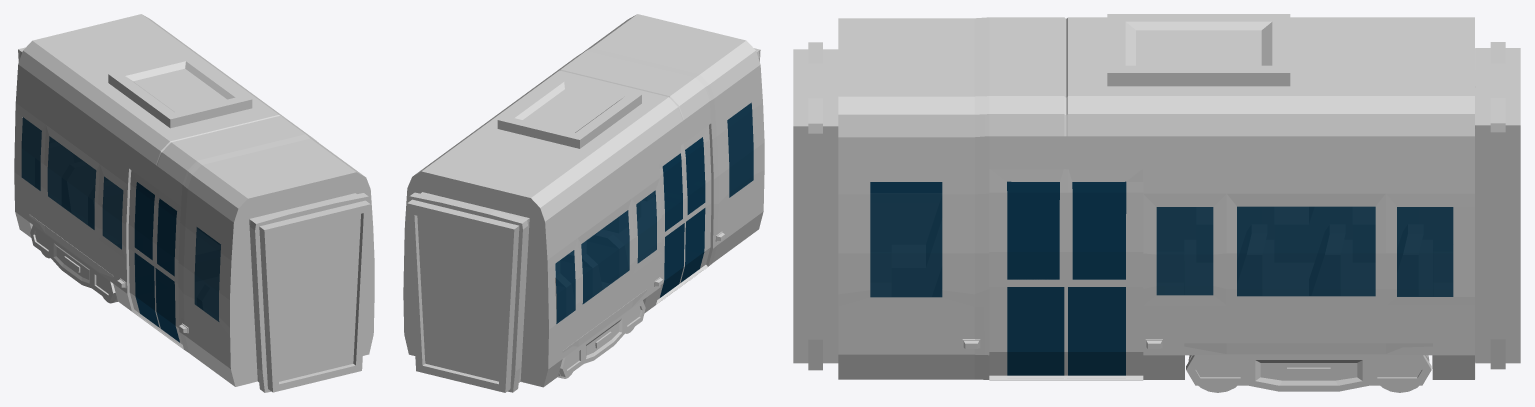
The model's file is tram_compartment_seperate_wheels_seperate_doors.fbx.
3 renders of one model, left to right at view 1: azimuth 30°, elevation 25°; view 2: azimuth 150°, elevation 25°; view 3: azimuth 270°, elevation 25°, orthographic. The views are drawn at different scales.
Visible parts, largest first — view 1: tram_compartment, tram_compartment_glass, tram_compartment_wedge; view 2: tram_compartment, tram_compartment_glass, tram_compartment_wedge; view 3: tram_compartment, tram_compartment_glass, tram_compartment_wedge.
Boxes of the visible parts, box(x1,y1,x2,y2) form: tram_compartment: box(14, 14, 374, 392); tram_compartment_glass: box(21, 117, 220, 321); tram_compartment_wedge: box(30, 225, 116, 301); tram_compartment: box(403, 14, 764, 392); tram_compartment_glass: box(555, 102, 753, 323); tram_compartment_wedge: box(559, 300, 645, 377); tram_compartment: box(793, 14, 1520, 380); tram_compartment_glass: box(870, 182, 1453, 297); tram_compartment_wedge: box(1186, 355, 1431, 391).
Size of the model in its own units: 353 by 453 by 991.
